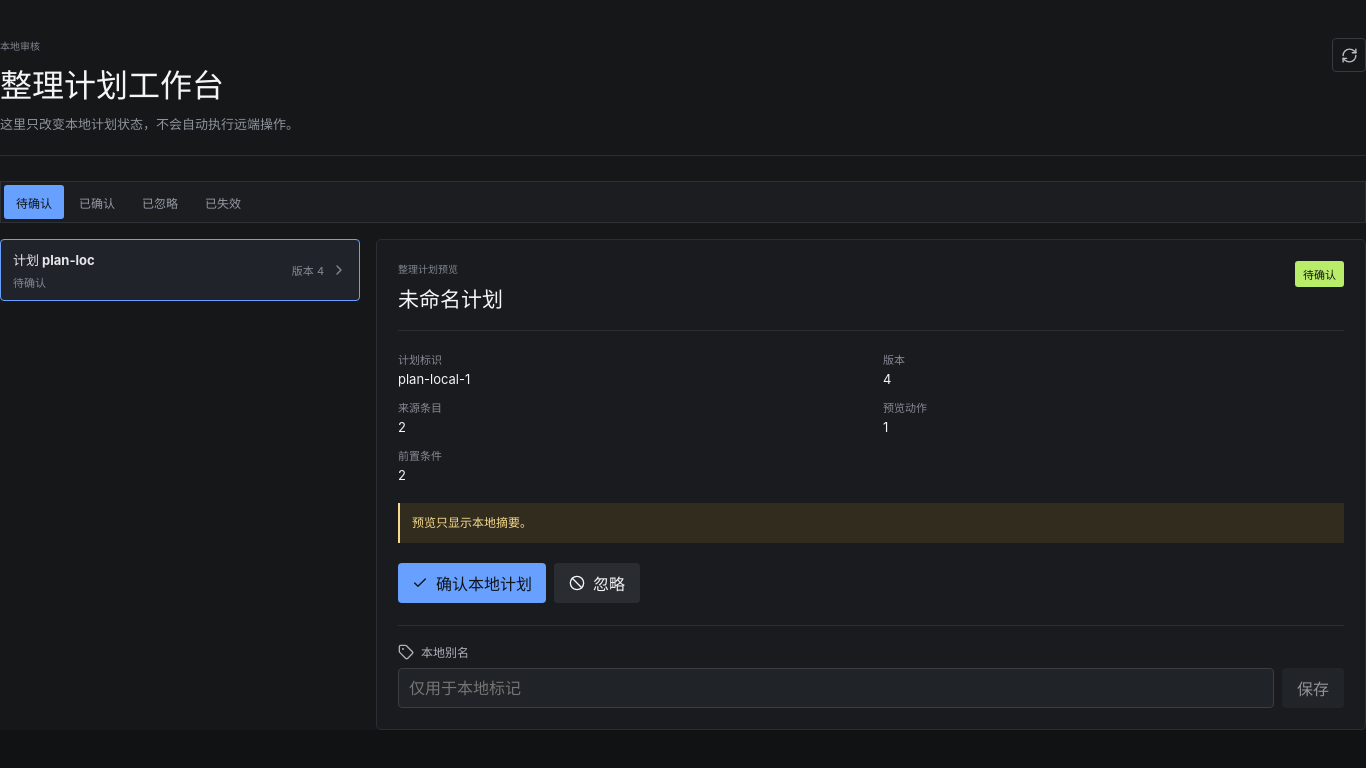
Scenario: OrganizationWorkbenchView › refreshes after a stale revision and never reports success
The image size is (1366, 768).
Click the button "确认本地计划" at (472,583), box x1=398 y1=563 x2=546 y2=603
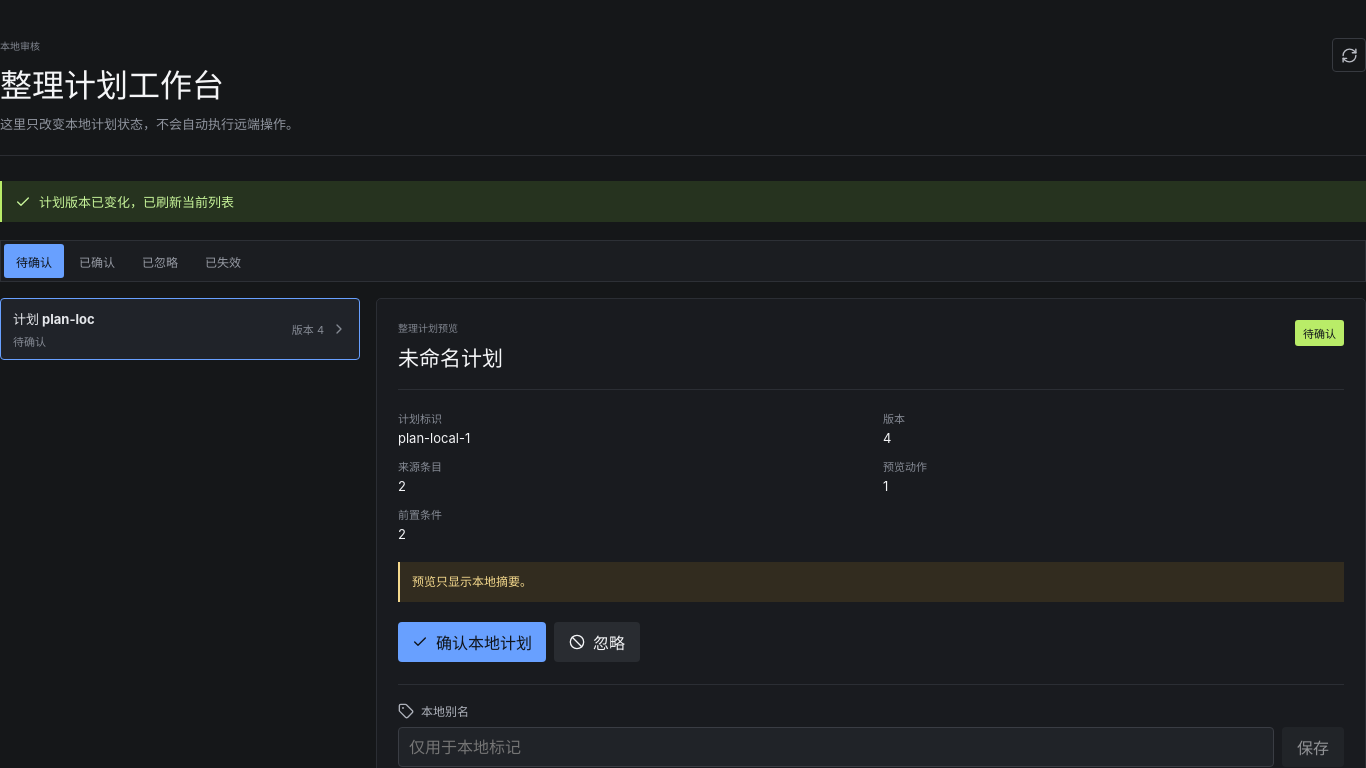
Result: the text "计划版本已变化，已刷新当前列表" is shown at x1=0 y1=181 x2=1365 y2=222
